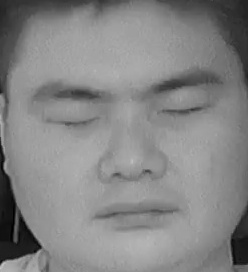blink: (48, 104, 101, 142), (159, 92, 214, 127)
mouth: (87, 189, 182, 236)
